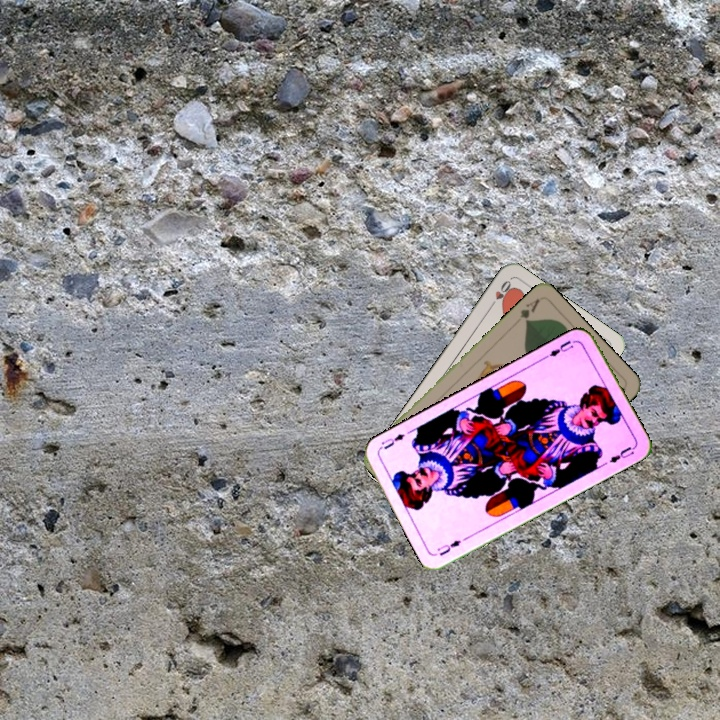EU: (541, 336, 576, 361), (433, 536, 464, 559)
GA: (516, 294, 543, 326)
HO: (485, 276, 514, 312)
